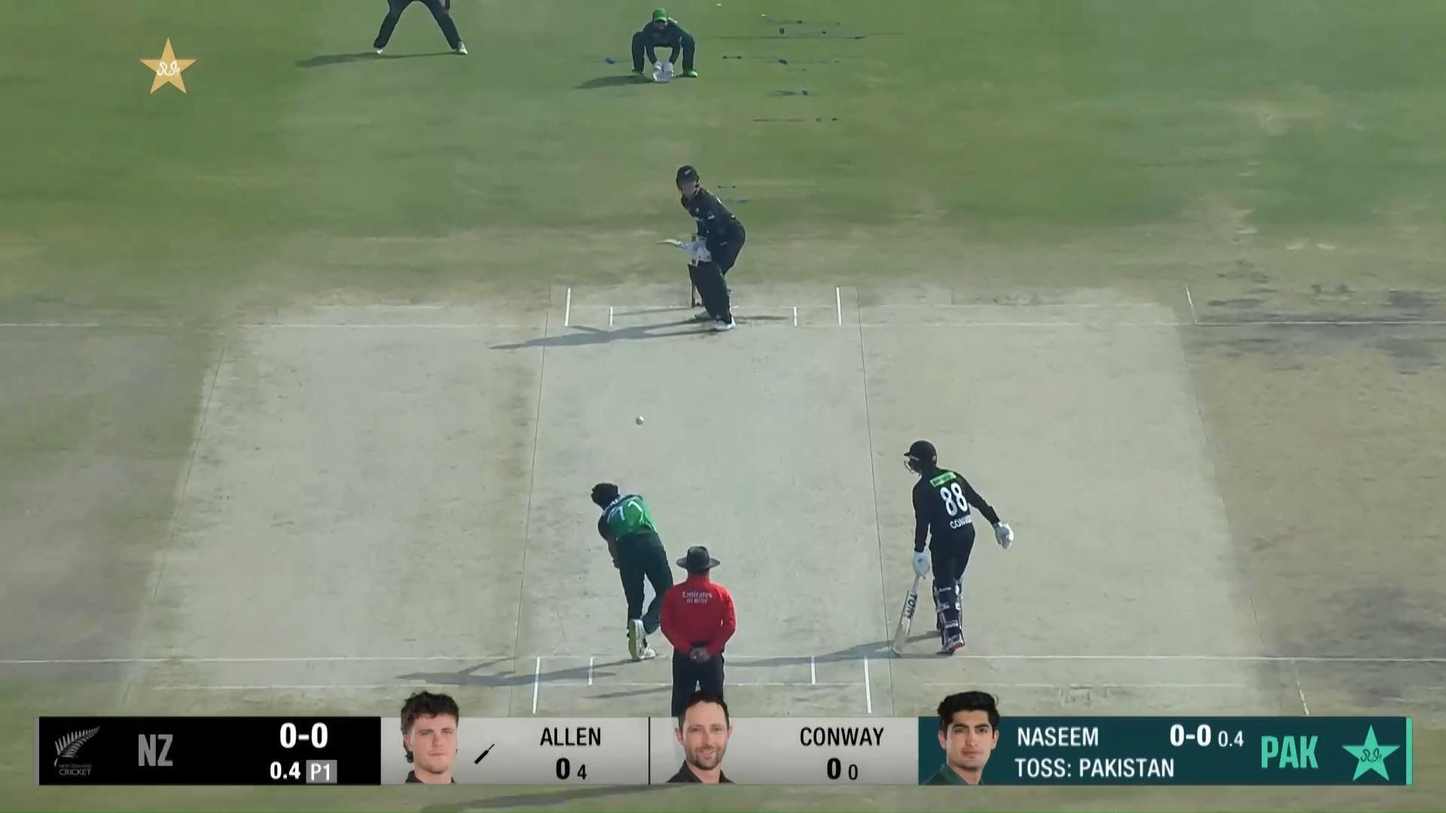BM 1: (654, 164, 747, 332)
BO: (588, 480, 679, 663)
